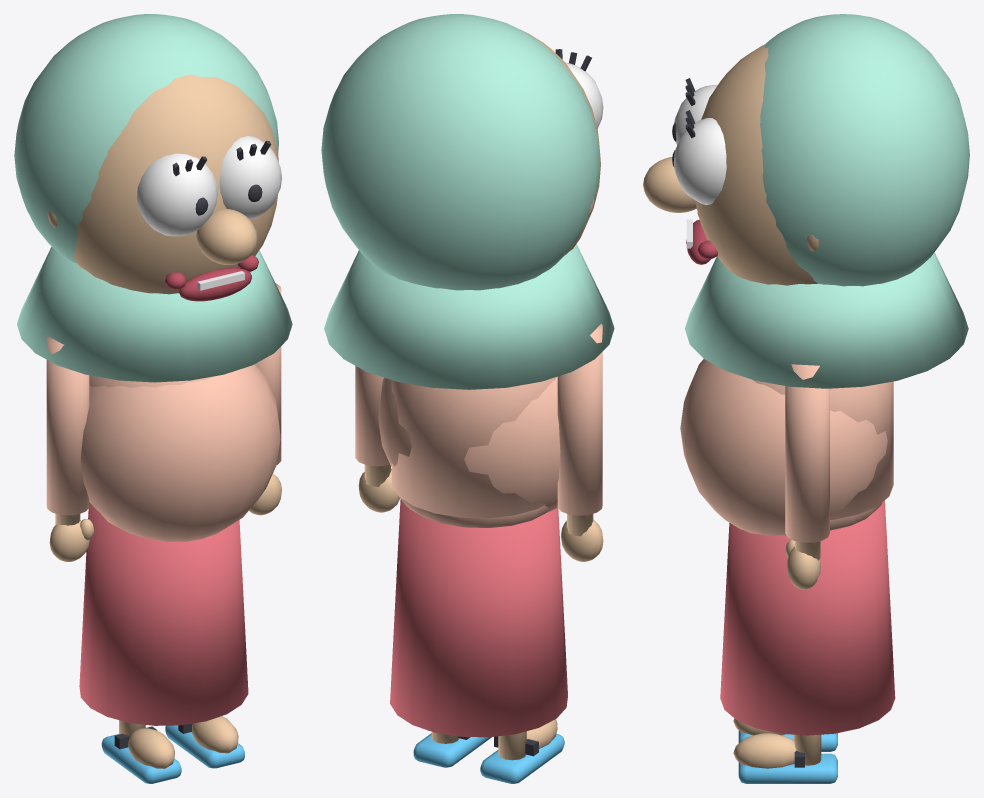
Rendered from Char_TownAunty.fbx.
3 renders of one model, left to right at view 1: azimuth 30°, elevation 25°; view 2: azimuth 150°, elevation 25°; view 3: azimuth 270°, elevation 25°, orthographic. The views are drawn at different scales.
Parts seen in each view (by area): view 1: Head, Torso, ArmR, LegR, LegL, ArmL; view 2: Head, Torso, ArmR, ArmL, LegR, LegL; view 3: Head, Torso, ArmL, LegL, LegR.
Part boxes in pixels (left/top/right/bottom): Head: left=14, top=14, right=292, bottom=382; Torso: left=79, top=364, right=280, bottom=725; ArmR: left=46, top=335, right=94, bottom=561; LegR: left=101, top=720, right=181, bottom=783; LegL: left=165, top=716, right=244, bottom=768; ArmL: left=249, top=283, right=281, bottom=515; Head: left=321, top=14, right=614, bottom=389; Torso: left=378, top=376, right=567, bottom=737; ArmR: left=557, top=324, right=603, bottom=561; ArmL: left=355, top=366, right=400, bottom=512; LegR: left=480, top=719, right=564, bottom=783; LegL: left=413, top=732, right=491, bottom=767; Head: left=643, top=14, right=969, bottom=388; Torso: left=680, top=359, right=895, bottom=735; ArmL: left=785, top=364, right=829, bottom=589; LegL: left=733, top=733, right=837, bottom=783; LegR: left=733, top=718, right=837, bottom=751.
Size of the model in its own units: 0.728 by 2.08 by 0.8385.
